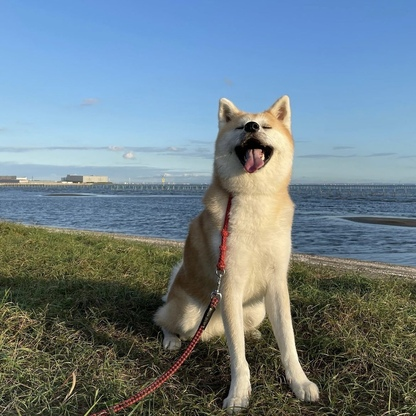akita: (149, 86, 327, 416)
